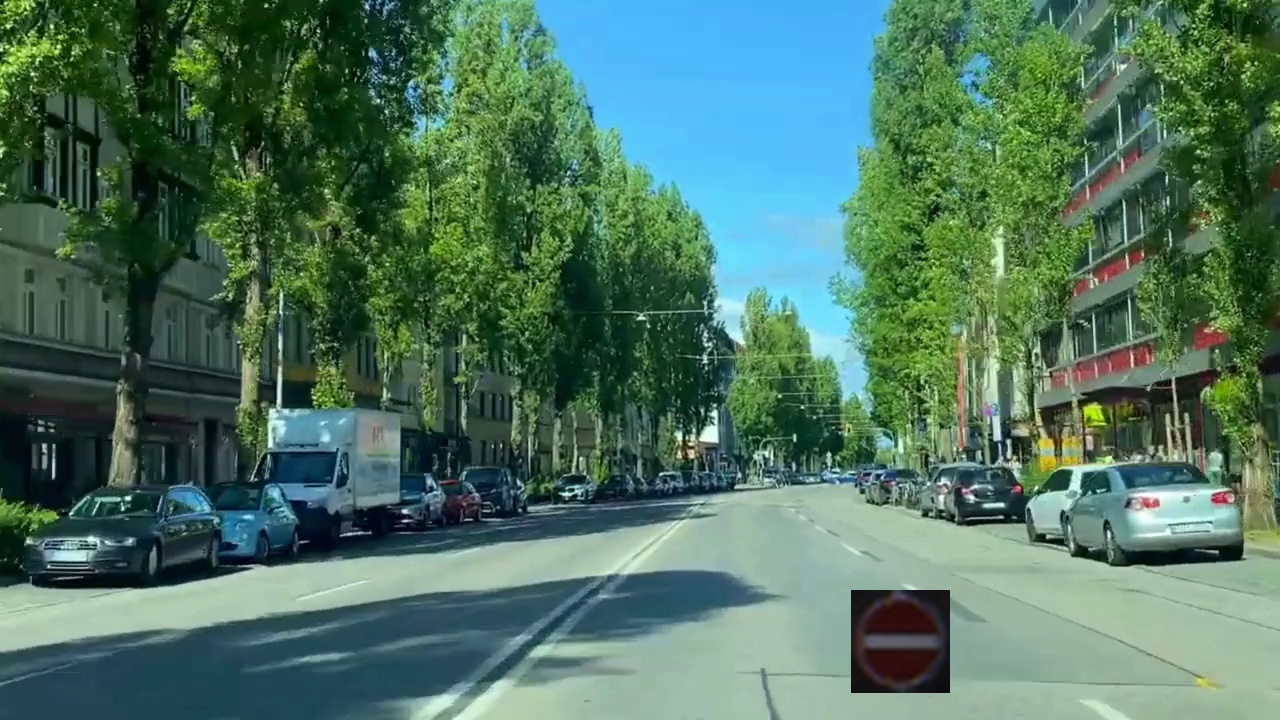No entry: (851, 590, 950, 693)
